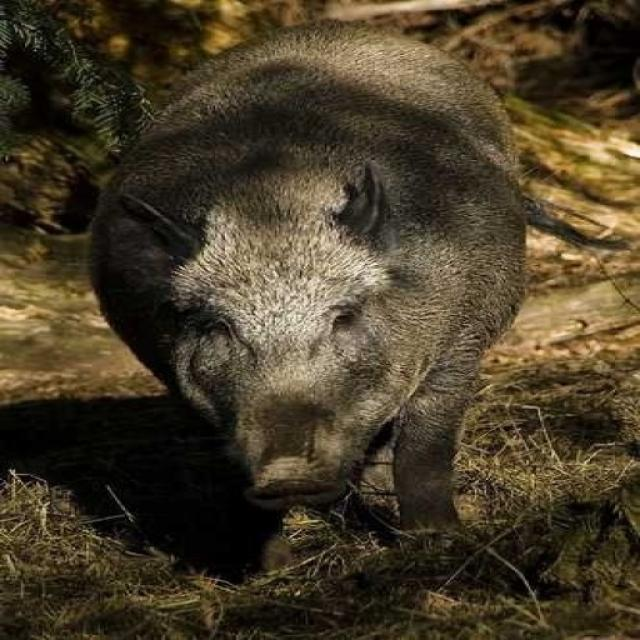pig: (130, 13, 529, 522)
